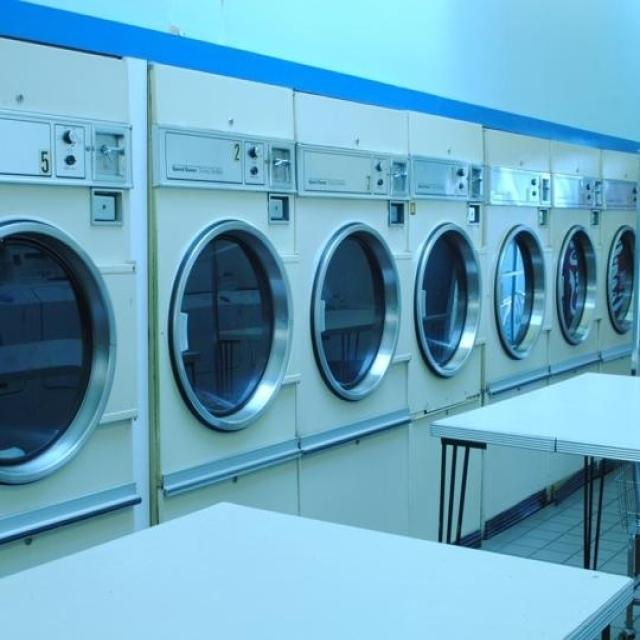E-waste: (0, 29, 640, 498)
